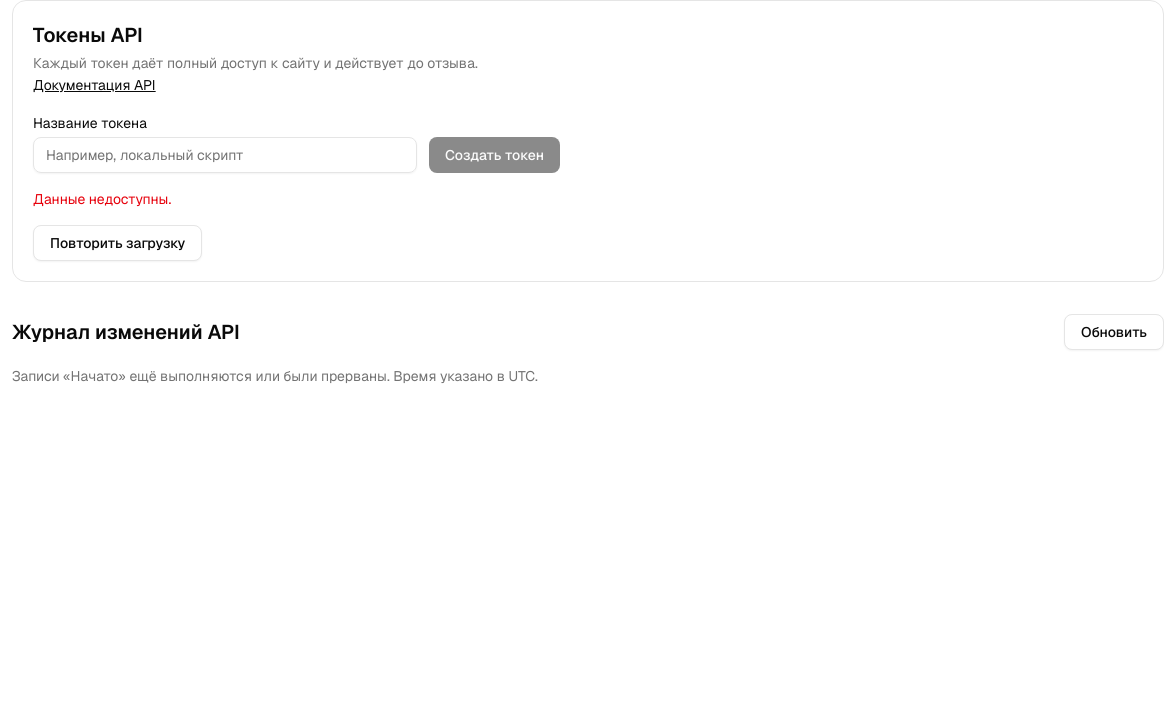
Test: API tab › recovers from a failed initial read
Expected: the button "Создать токен" is disabled, [429,137,560,173]
Click the button "Повторить загрузку" at [118, 243], box [33,225,202,261]
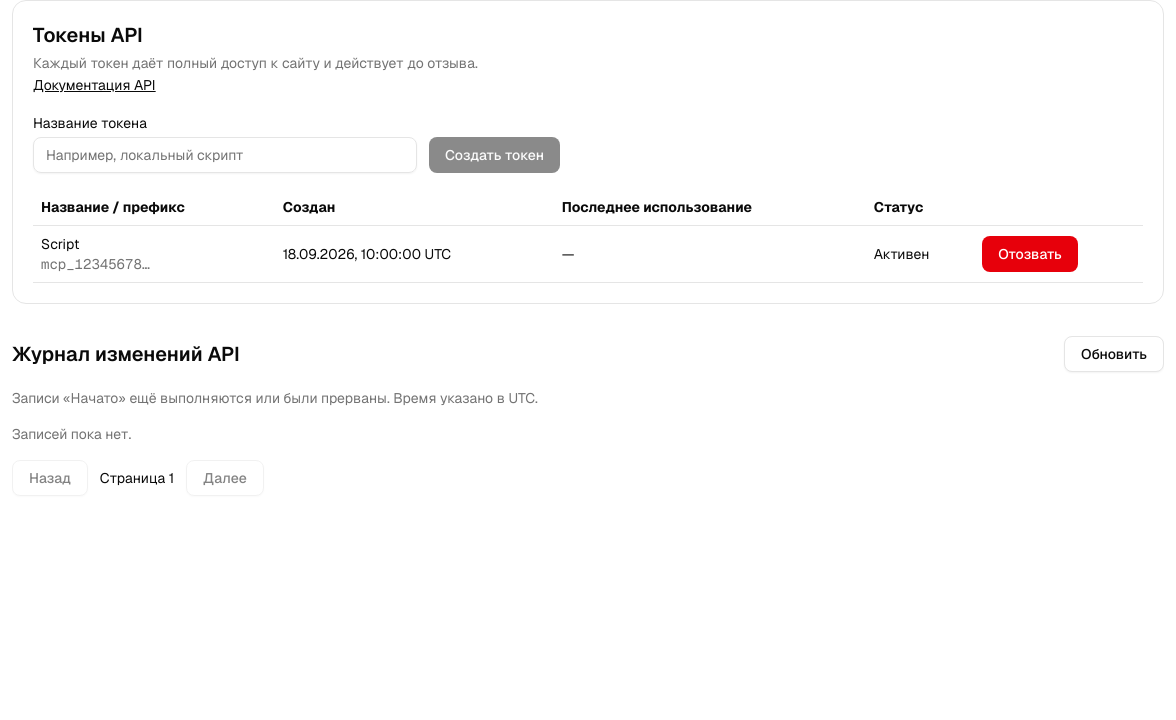
Result: the text "Script" is shown at [41,235,80,253]
Result: the message "Данные недоступны." is gone
